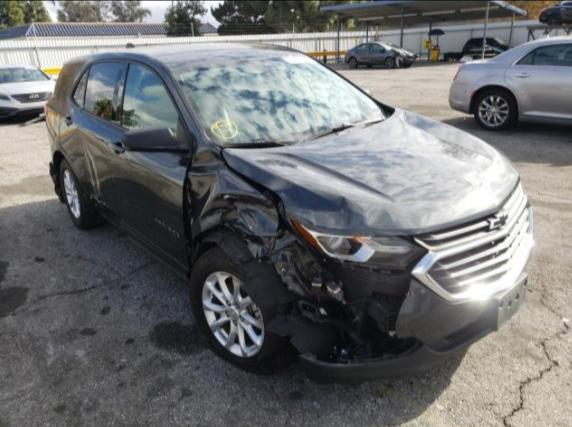Broken part: (247, 234, 421, 372), (180, 143, 300, 276)
Dent: (224, 150, 421, 238)
Missing part: (498, 275, 528, 328)
